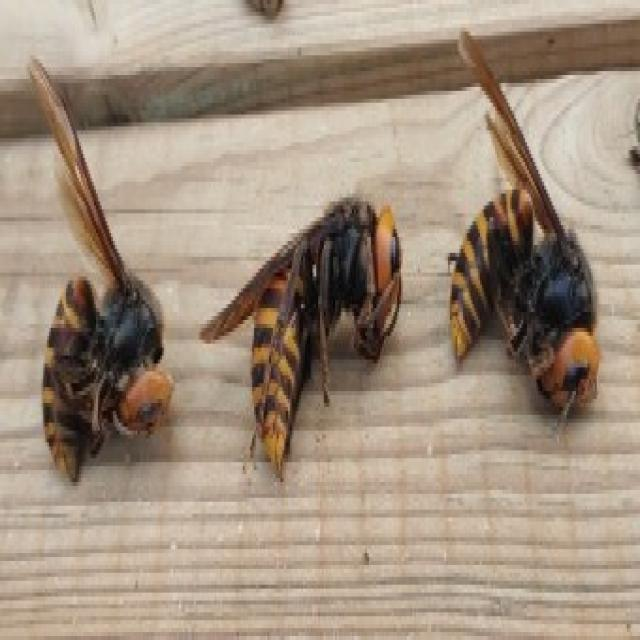Wasp: (436, 2, 604, 414), (15, 53, 165, 500), (213, 152, 396, 482)
